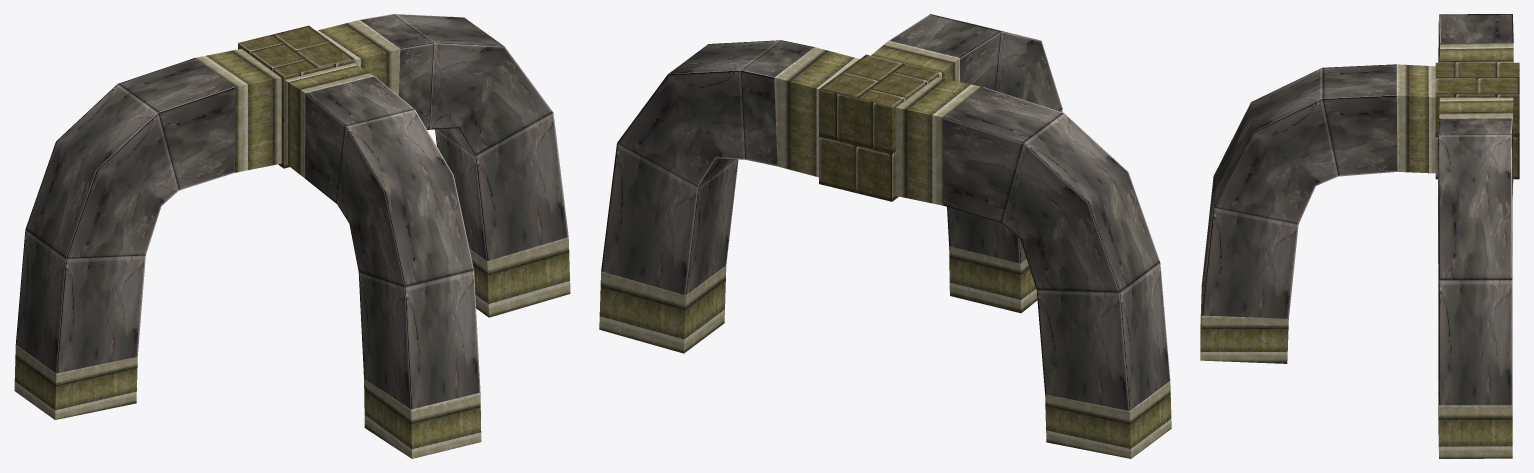
The model's file is INST_SM_BUTTRESSES.fbx.
3 views of the same model, side by side, from view 1: azimuth 30°, elevation 25°; view 2: azimuth 150°, elevation 25°; view 3: azimuth 270°, elevation 25° (orthographic). The views are drawn at different scales.
Parts seen in each view (by area): view 1: INST_SM_BUTTRESSES; view 2: INST_SM_BUTTRESSES; view 3: INST_SM_BUTTRESSES.
Part boxes in pixels (x1,y1,x2,y2): INST_SM_BUTTRESSES: (14, 14, 570, 458); INST_SM_BUTTRESSES: (599, 14, 1171, 458); INST_SM_BUTTRESSES: (1200, 14, 1519, 458).
Bounding box in the file's own units: 110666 × 59993 × 64311.
4 materials, 4 textured.
